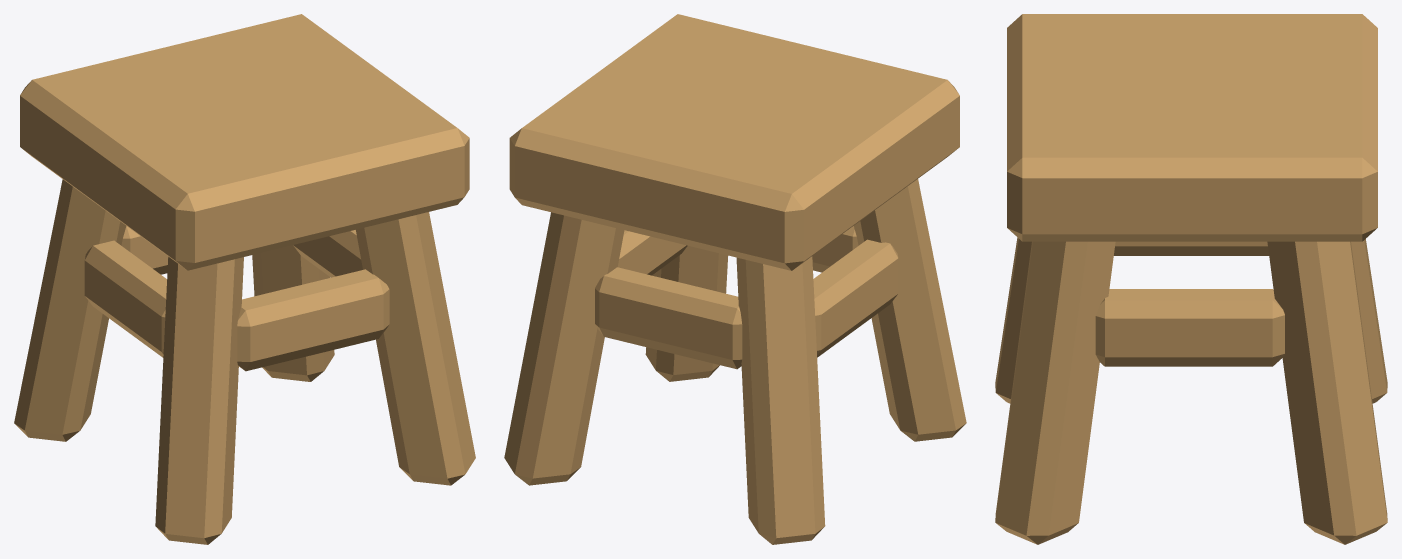
Rendered from chair_b_234.gltf.
3 views of the same model, side by side, from view 1: azimuth 30°, elevation 25°; view 2: azimuth 150°, elevation 25°; view 3: azimuth 270°, elevation 25° (orthographic). The views are drawn at different scales.
Parts seen in each view (by area): view 1: chair_b004; view 2: chair_b004; view 3: chair_b004.
Part boxes in pixels (x1=…): chair_b004: x1=14, y1=14, x2=475, y2=544; chair_b004: x1=504, y1=14, x2=966, y2=544; chair_b004: x1=995, y1=14, x2=1387, y2=544.
Size of the model in its own units: 0.4227 by 0.4537 by 0.4233.
Materials: 1 (1 with a texture image).
